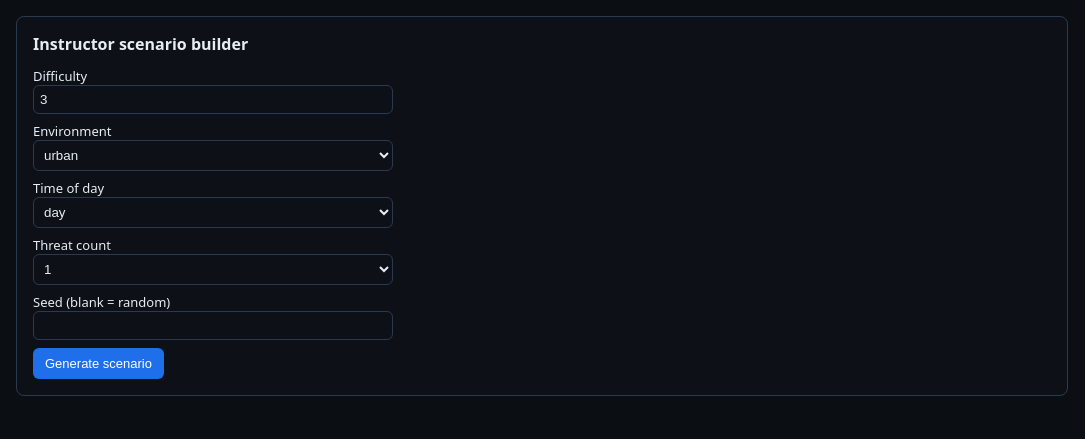
InstructorView › surfaces a generation error
Click the button "Generate scenario": click(98, 364) [33,348,164,379]
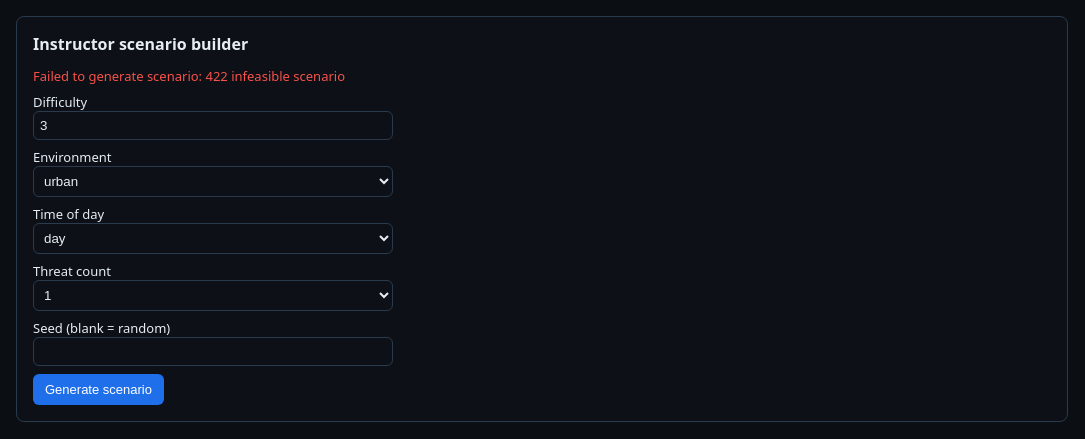
Now the text "Failed to generate scenario: 422 infeasible scenario" is shown, box [33,67,345,85]
